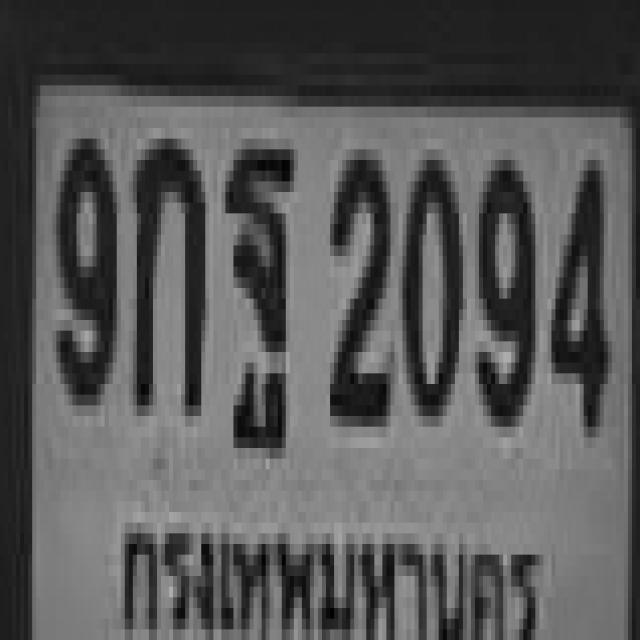0: (398, 150, 459, 406)
10GorGai: (129, 128, 201, 405)
2: (326, 139, 386, 416)
25ThorThan: (221, 144, 290, 411)
4: (547, 149, 604, 427)
9: (52, 128, 113, 395), (475, 149, 531, 416)
Bangkok: (109, 480, 543, 640)
